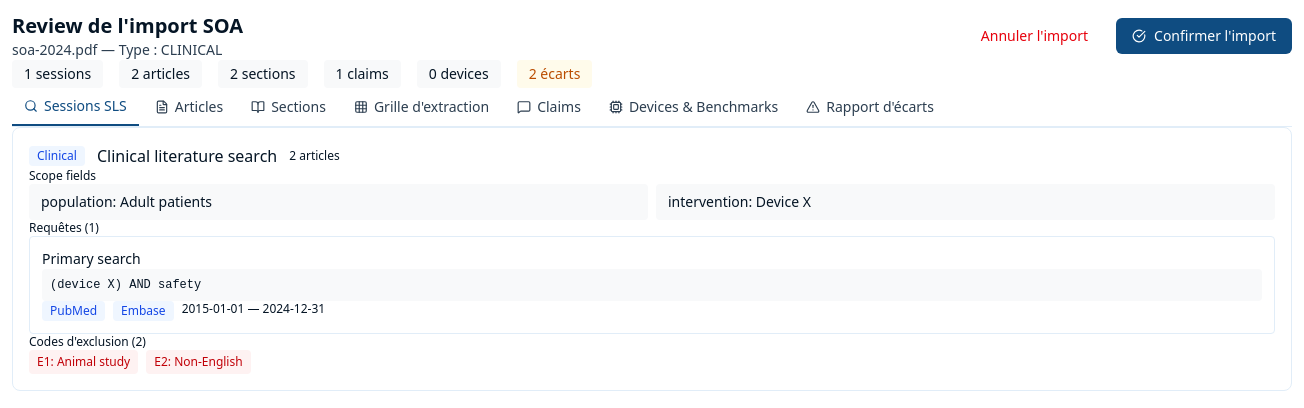
Test: SoaImportReview › switches to claims tab on click
Click the button with test id "tab-claims": (549, 107) [505,88,593,126]
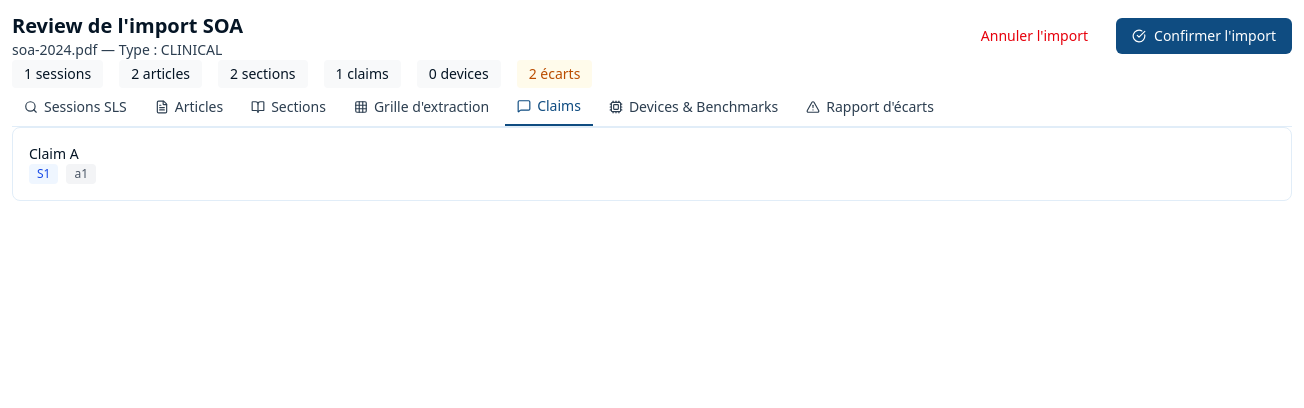
Now the element with test id "claims-tab" is shown, box [12,127,1292,201]
